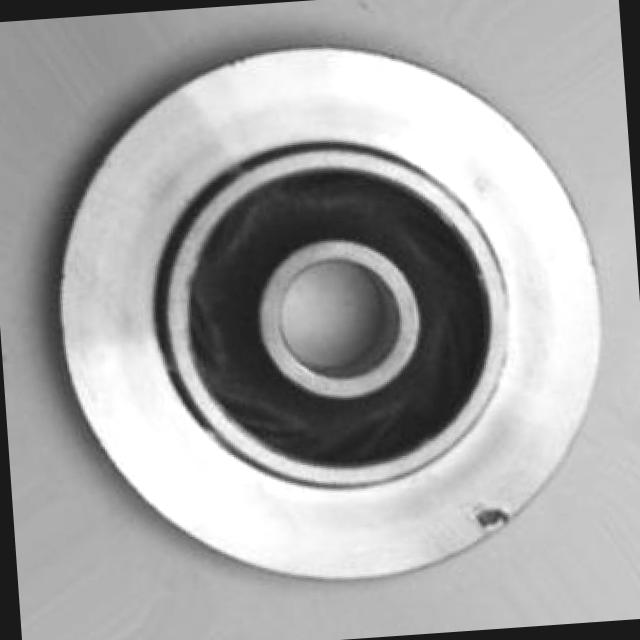Defect: (470, 498, 512, 531)
